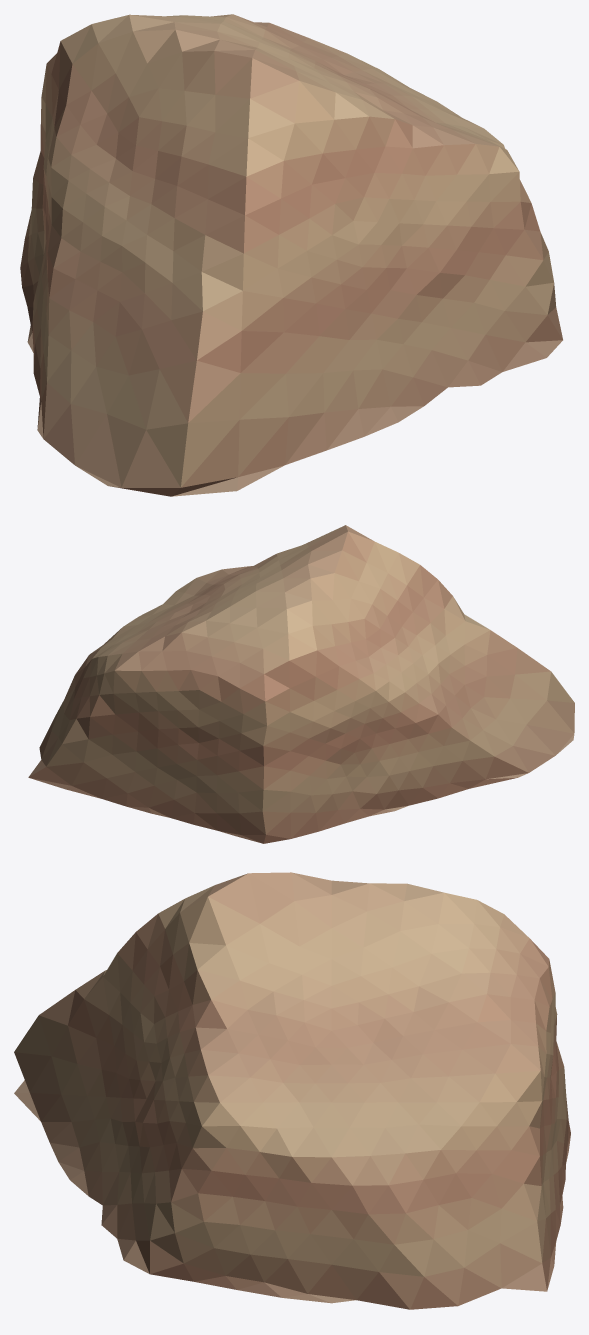
Rendered from rock_6.glb.
The picture shows the model from 3 angles, top to bottom: view 1: azimuth 30°, elevation 25°; view 2: azimuth 150°, elevation 25°; view 3: azimuth 270°, elevation 25°; orthographic projection. The views are drawn at different scales.
Visible parts, largest first — view 1: rock; view 2: rock; view 3: rock.
Part boxes in pixels (x1,y1,x2,y2): rock: [20, 14, 562, 496]; rock: [28, 525, 574, 843]; rock: [14, 872, 570, 1309].
Size of the model in its own units: 3.8 by 1.78 by 3.18.
